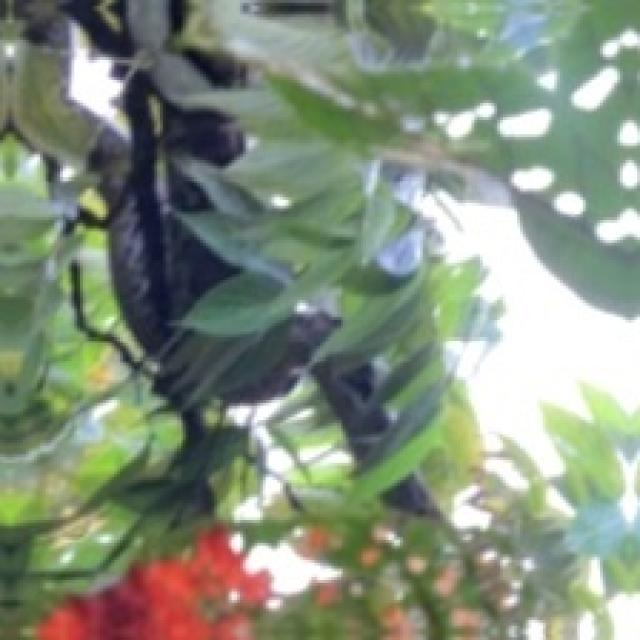reticulated python: (11, 40, 100, 169), (220, 311, 339, 402), (110, 184, 162, 355), (311, 359, 391, 465), (165, 218, 238, 321), (385, 475, 441, 519)
